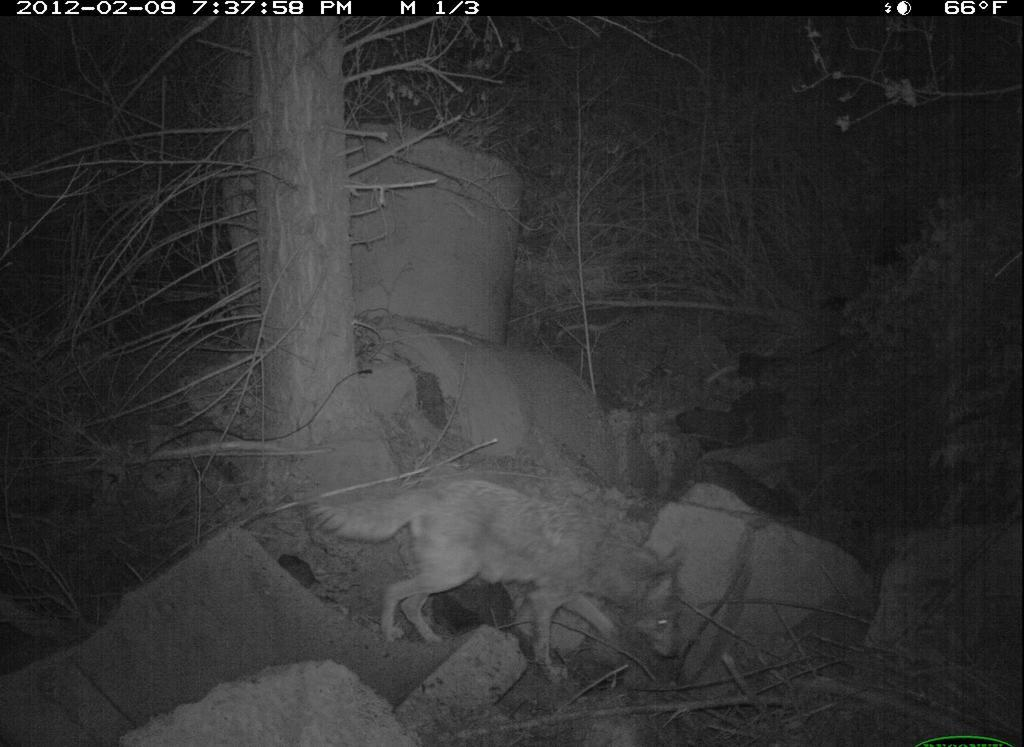coyote: (303, 466, 684, 693)
